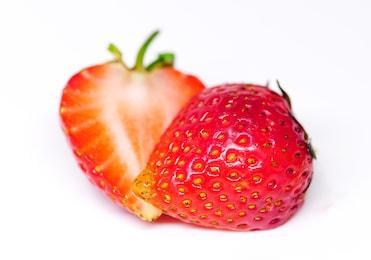Fresa: (130, 78, 318, 236)
